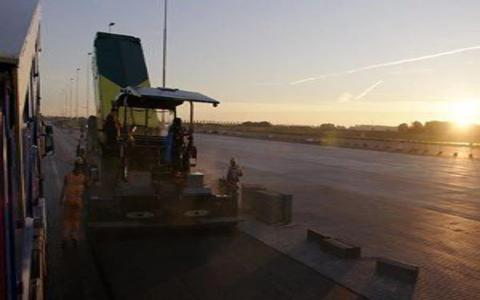Proper road: (325, 167, 443, 223)
